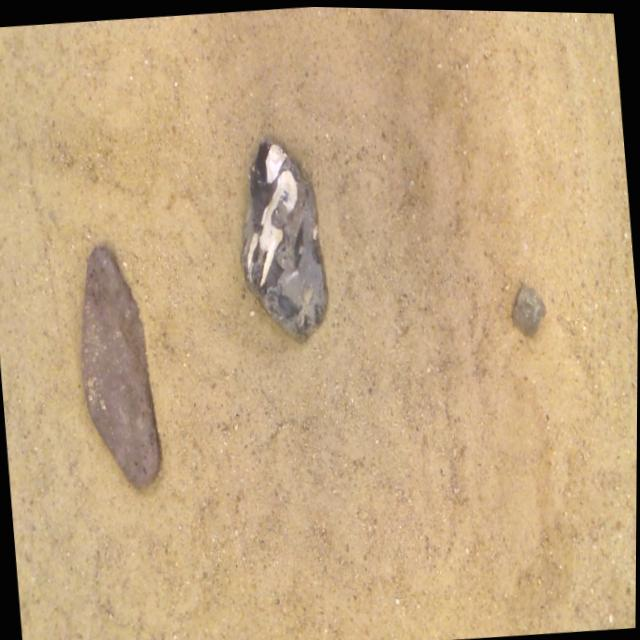rock: (82, 247, 161, 487), (241, 142, 328, 341), (512, 282, 545, 334)
